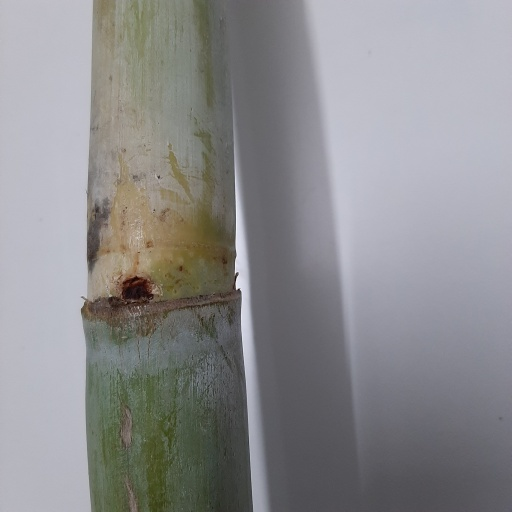Damage_Bud: (117, 274, 156, 302)
